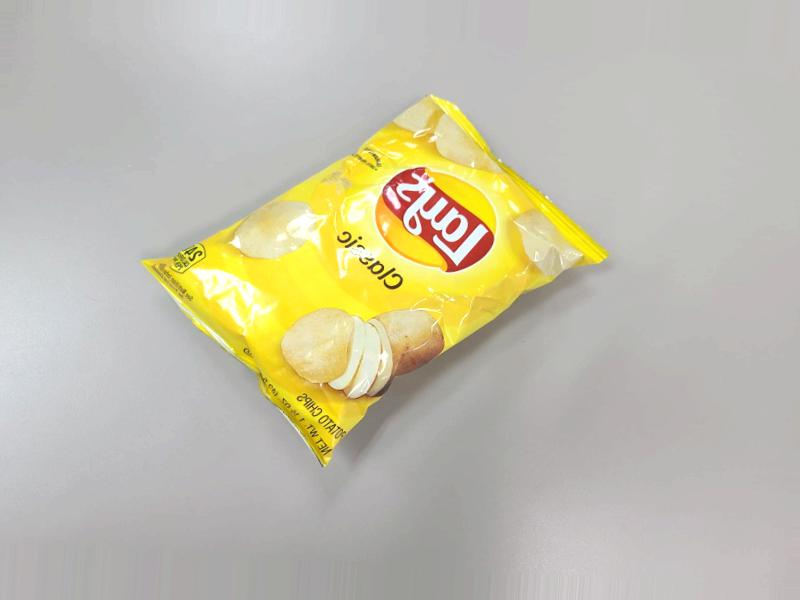lays: (174, 90, 566, 432)
